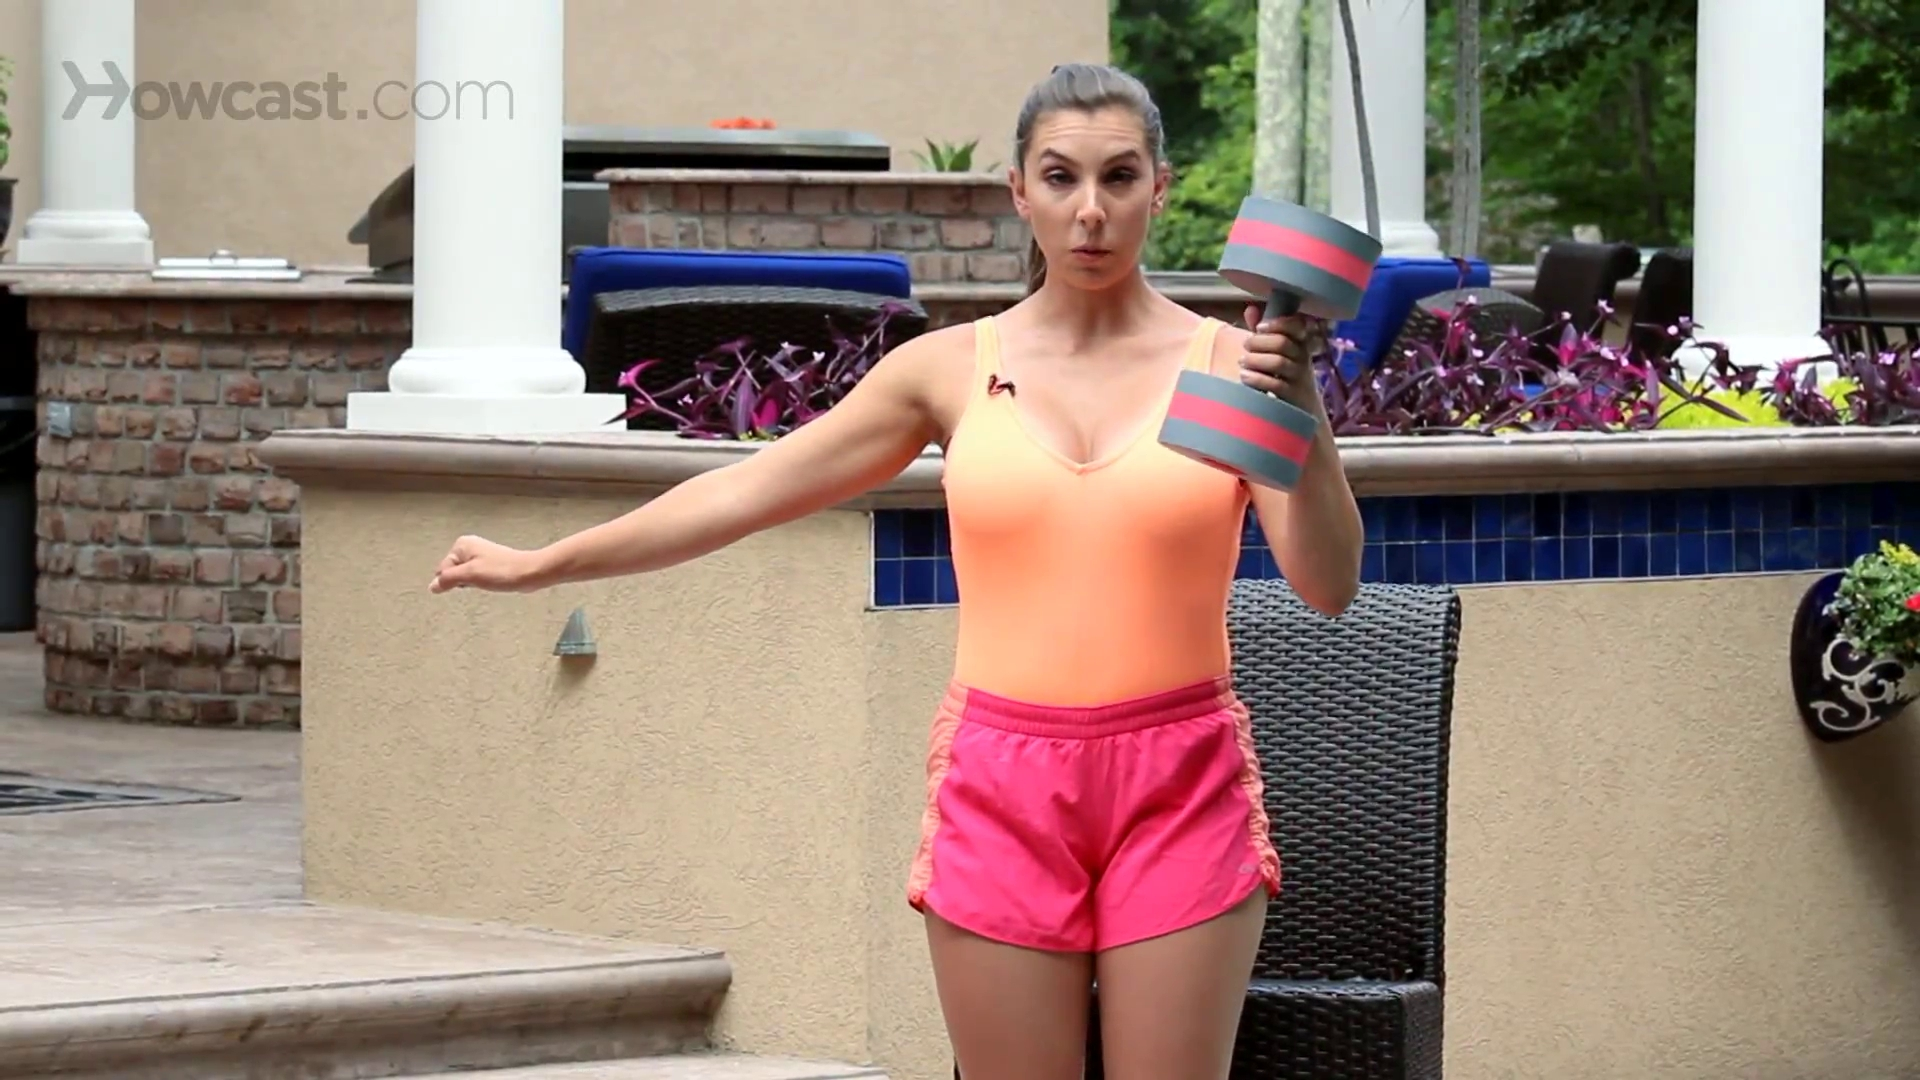person: (431, 62, 1383, 1075)
